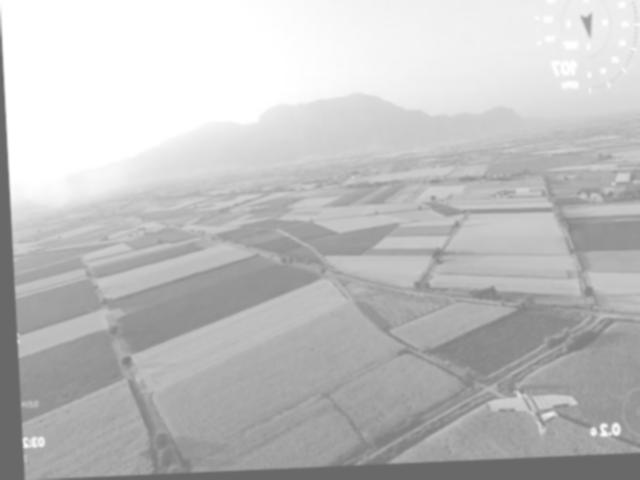hedef: (473, 379, 575, 449)
